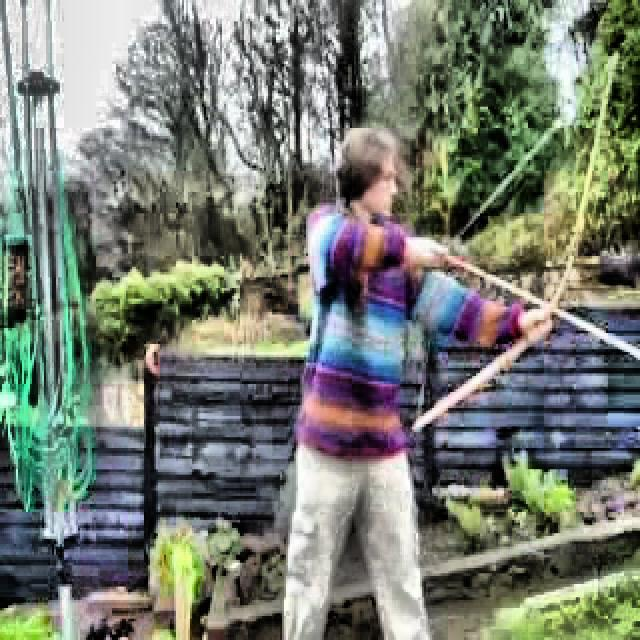I: (275, 116, 551, 640)
